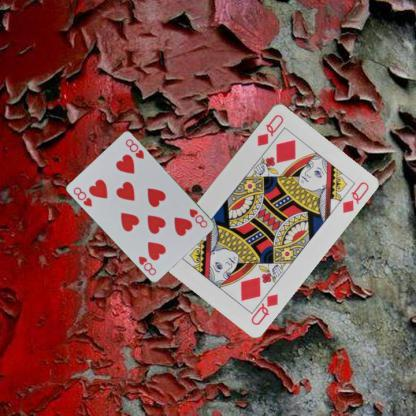8h: (71, 184, 94, 208), (187, 206, 209, 229)
Qd: (248, 284, 280, 326), (254, 111, 285, 148)
